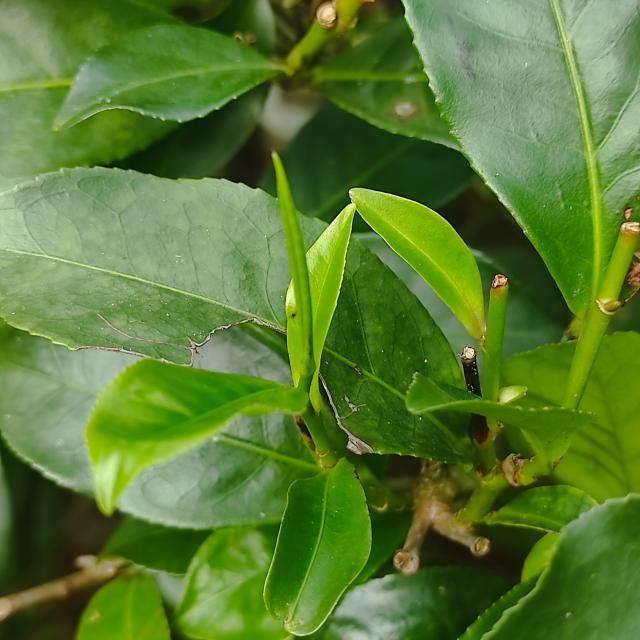unopened_leaf: (265, 142, 320, 380)
